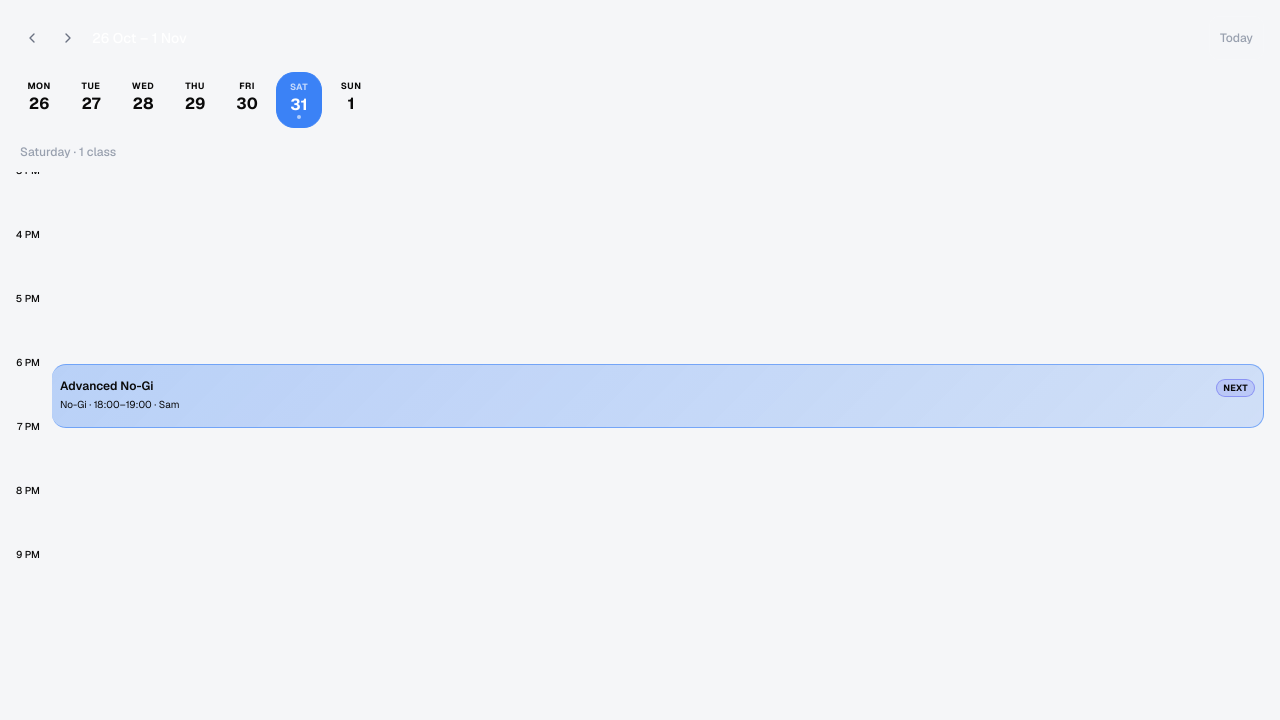
Test: member schedule and kiosk — category label › the member schedule shows the label in the class sheet
This screenshot has width=1280, height=720.
Click the text "Advanced No-Gi" at (107, 386), box x1=60 y1=378 x2=153 y2=394
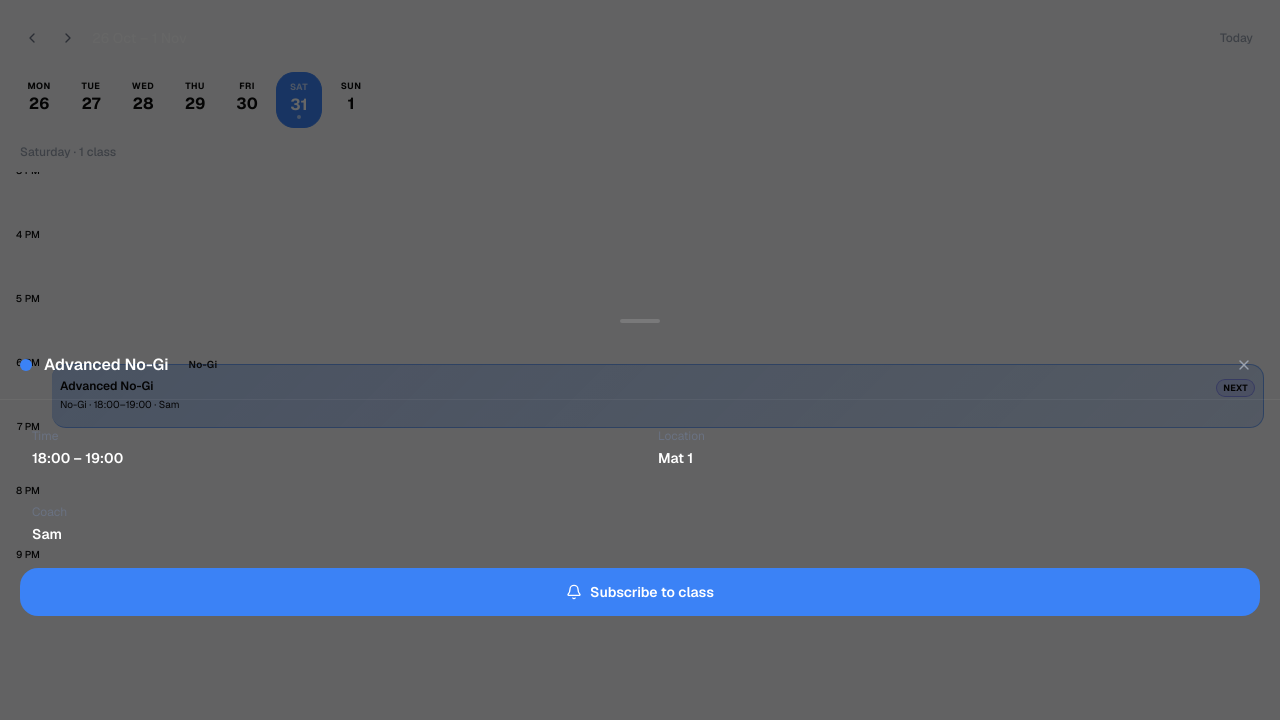
expect the text with test id "schedule-sheet-category" reads "No-Gi": met, box x1=188 y1=358 x2=217 y2=371
